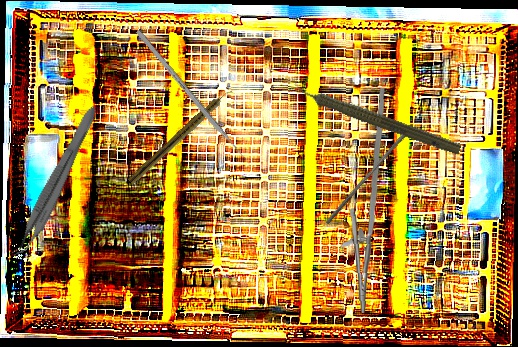Handpiece: (285, 75, 465, 159), (127, 86, 235, 187)
Needle Holder: (334, 88, 394, 314)
Pusher: (134, 29, 253, 167), (325, 131, 406, 228)
Tissue Forceps: (8, 99, 101, 265)
